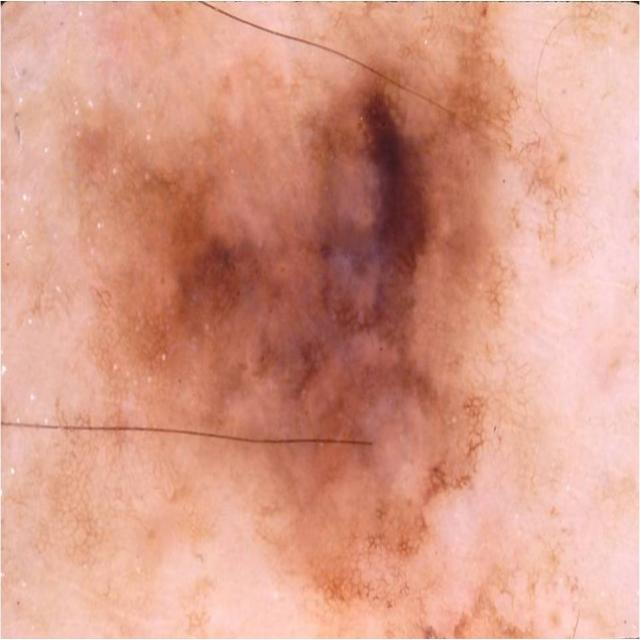Skin-Cancer Melanoma: (71, 36, 593, 580)
